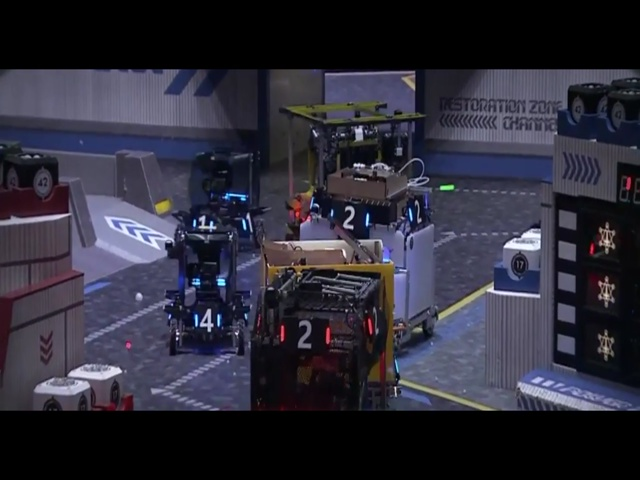bluePlate: (326, 201, 374, 232), (189, 307, 227, 335), (187, 210, 222, 237), (235, 206, 259, 239), (403, 197, 427, 224)
redPlate: (272, 315, 335, 359), (363, 301, 384, 341)
